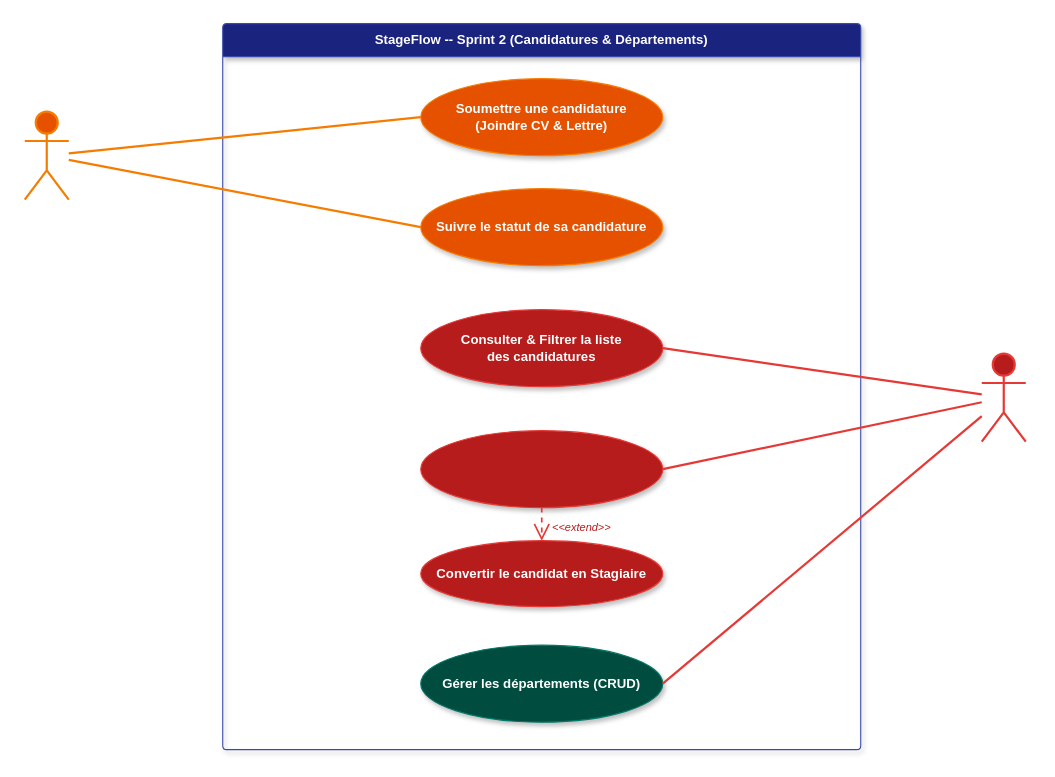
Image size: 1055x777. Some labels were removed from this diagram. Here are the shapes that lost their labels. From the top down, the centre of each, then its label:
At point 46,155: "Candidat".
At point 1003,397: "Admin RH".
At point 542,470: "Accepter / Refuser une candidature".
